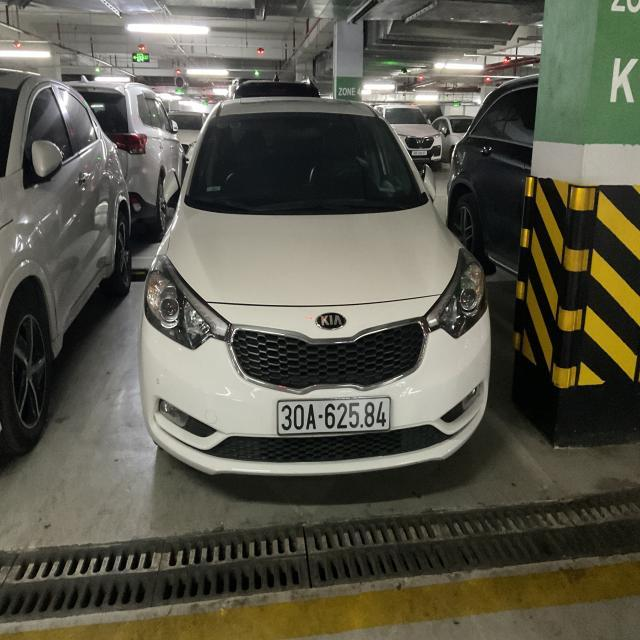license: (275, 396, 391, 435)
